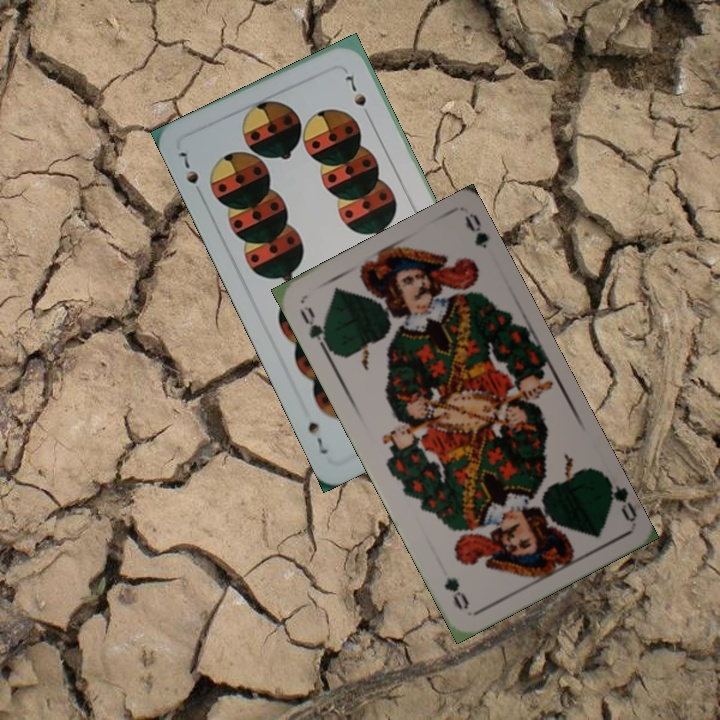GO: (599, 470, 638, 524), (295, 302, 333, 356)
S7: (174, 147, 202, 186)
